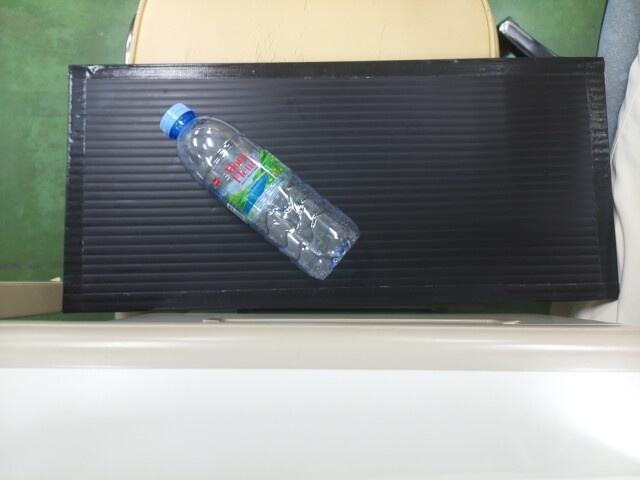plastic_bottle: (153, 92, 360, 276)
